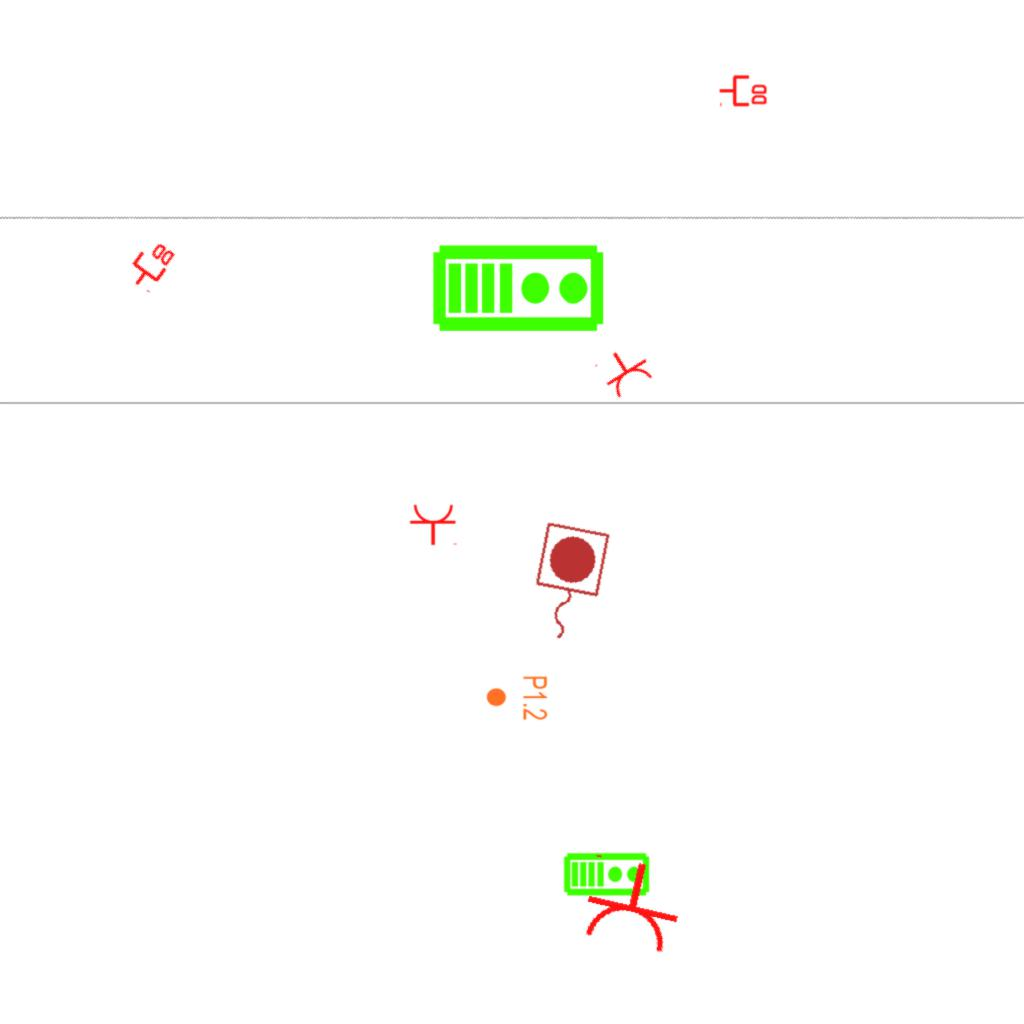Datenanschluss_zweifach: (121, 233, 179, 296), (718, 73, 769, 107)
Downlight_LED_Einbauleuchten_Flur: (485, 675, 549, 721)
Gegensprechanlage_mit_Video: (431, 239, 607, 334), (563, 850, 651, 897)
Schukosteckdose_einfach: (572, 850, 691, 958), (591, 339, 658, 403), (409, 503, 459, 546)
Zugtaster: (520, 517, 614, 651)
